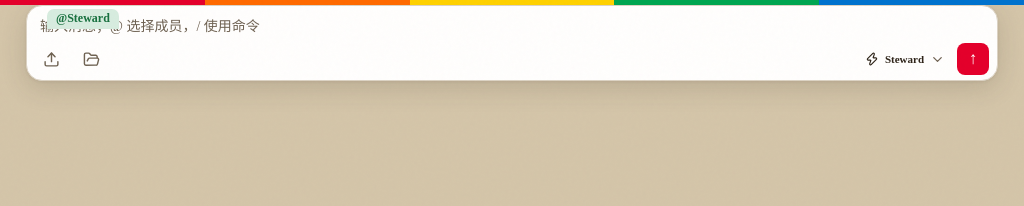
Test: Model/Effort 选择器（渲染 Composer 内的 ModelSelector） › 真的换了目标才收起
同上权威声明：恒不放宽成 name:'Steward'。
Click the button with aria-label "Steward，模型未知" at (905, 59), box [857,44,953,74]
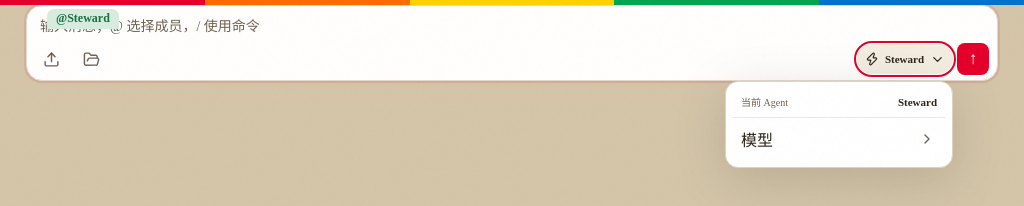
Now the menu is shown, box [725,81,953,168]
